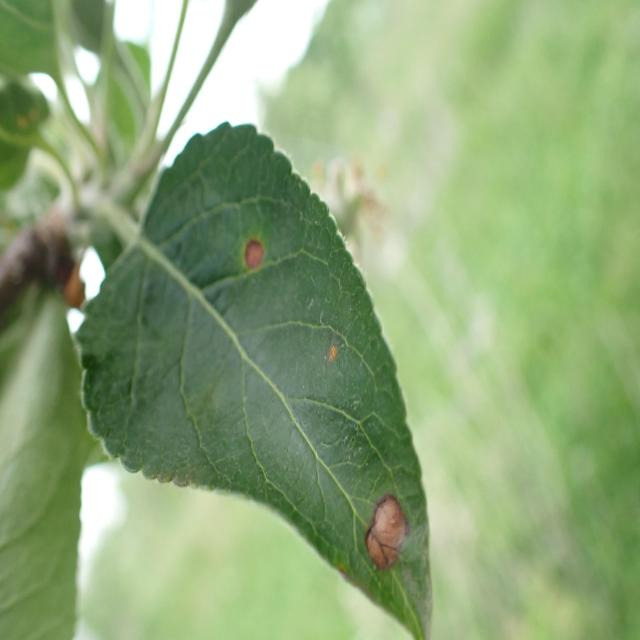Black Rot: (356, 476, 417, 582), (240, 218, 278, 295)
